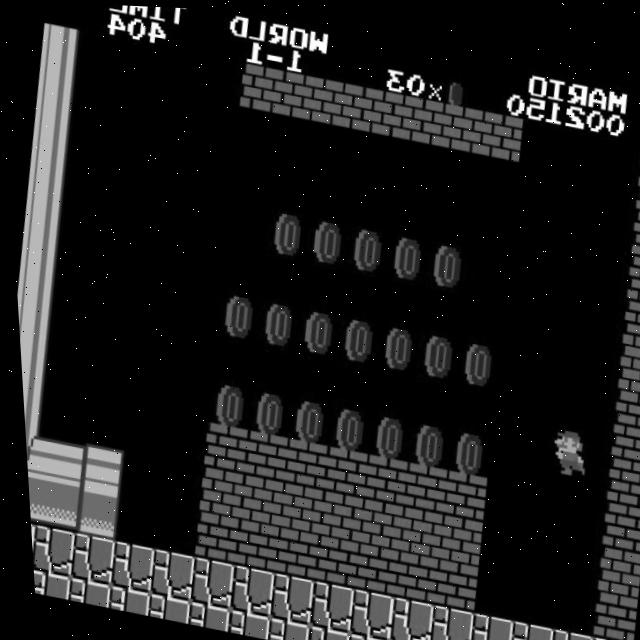1- brick_block: (474, 106, 525, 160), (434, 99, 485, 153), (344, 540, 395, 594), (309, 488, 360, 542), (269, 480, 320, 534), (304, 533, 355, 586), (275, 69, 326, 122), (235, 61, 286, 114), (195, 420, 246, 473), (583, 585, 633, 639), (424, 555, 474, 609), (389, 503, 439, 557), (384, 548, 434, 602), (395, 91, 445, 145), (349, 495, 399, 549), (315, 76, 365, 130), (265, 525, 315, 579), (190, 465, 240, 519), (394, 459, 445, 511), (354, 451, 405, 503), (434, 466, 484, 519), (429, 511, 479, 564), (355, 84, 405, 137), (315, 443, 365, 496), (275, 435, 325, 488), (235, 428, 285, 481), (230, 473, 280, 526), (225, 518, 275, 571), (185, 510, 235, 563), (589, 541, 638, 594), (594, 496, 640, 549), (599, 451, 640, 505), (604, 406, 640, 460), (609, 362, 640, 414), (614, 316, 640, 369), (619, 271, 640, 324), (624, 226, 640, 278), (628, 182, 640, 233), (633, 136, 640, 188)
11- little_mario: (541, 418, 594, 474)
14- pipe: (31, 434, 81, 488), (26, 479, 76, 533), (37, 22, 87, 76), (22, 157, 72, 211), (17, 202, 67, 255), (12, 247, 62, 300), (32, 68, 82, 120), (27, 113, 77, 165), (14, 291, 57, 344), (16, 337, 52, 390), (18, 382, 47, 434), (20, 428, 41, 480), (22, 472, 36, 524)
15- pipe_head: (71, 442, 121, 496), (66, 487, 116, 541)
17- undestructible_block: (339, 585, 390, 639), (180, 555, 231, 609), (140, 547, 191, 601), (299, 578, 350, 631), (260, 570, 310, 624), (220, 562, 270, 616), (101, 540, 151, 593), (61, 532, 111, 585), (24, 524, 71, 578), (379, 593, 429, 640), (419, 601, 469, 640), (459, 608, 509, 640), (59, 577, 105, 608), (139, 592, 184, 623), (218, 608, 264, 638), (179, 600, 224, 630), (99, 585, 144, 615), (498, 615, 548, 640), (258, 615, 304, 640), (27, 569, 65, 599), (298, 622, 343, 640), (538, 624, 588, 640), (578, 630, 627, 640), (338, 630, 383, 640), (377, 638, 422, 640)
2- coin: (449, 331, 500, 385), (409, 323, 460, 377), (399, 413, 450, 467), (359, 406, 410, 460), (200, 375, 251, 429), (419, 234, 470, 287), (379, 226, 430, 279), (439, 421, 489, 475), (370, 316, 420, 370), (330, 308, 380, 362), (320, 398, 370, 452), (280, 390, 330, 444), (210, 285, 260, 339), (340, 219, 390, 272), (300, 211, 350, 264), (290, 301, 340, 354), (260, 203, 310, 256), (250, 293, 300, 346), (240, 383, 290, 436)
